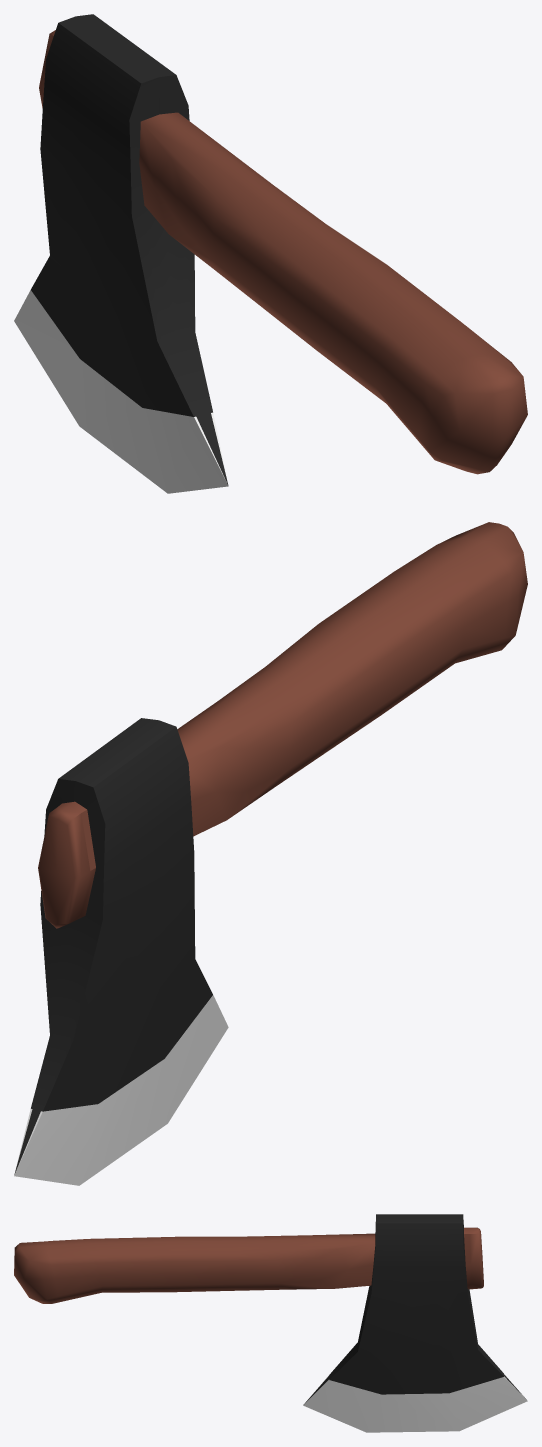
File: Small_trowing_axe.fbx
The picture shows the model from 3 angles, top to bottom: view 1: azimuth 30°, elevation 25°; view 2: azimuth 150°, elevation 25°; view 3: azimuth 270°, elevation 25°; orthographic projection. The views are drawn at different scales.
Parts seen in each view (by area): view 1: Vert.001; view 2: Vert.001; view 3: Vert.001.
Boxes of the visible parts, left/top/right/bottom form: Vert.001: left=14, top=14, right=527, bottom=493; Vert.001: left=14, top=522, right=527, bottom=1185; Vert.001: left=14, top=1214, right=527, bottom=1432.
Size of the model in its own units: 0.1789 by 1.75 by 0.8076.
